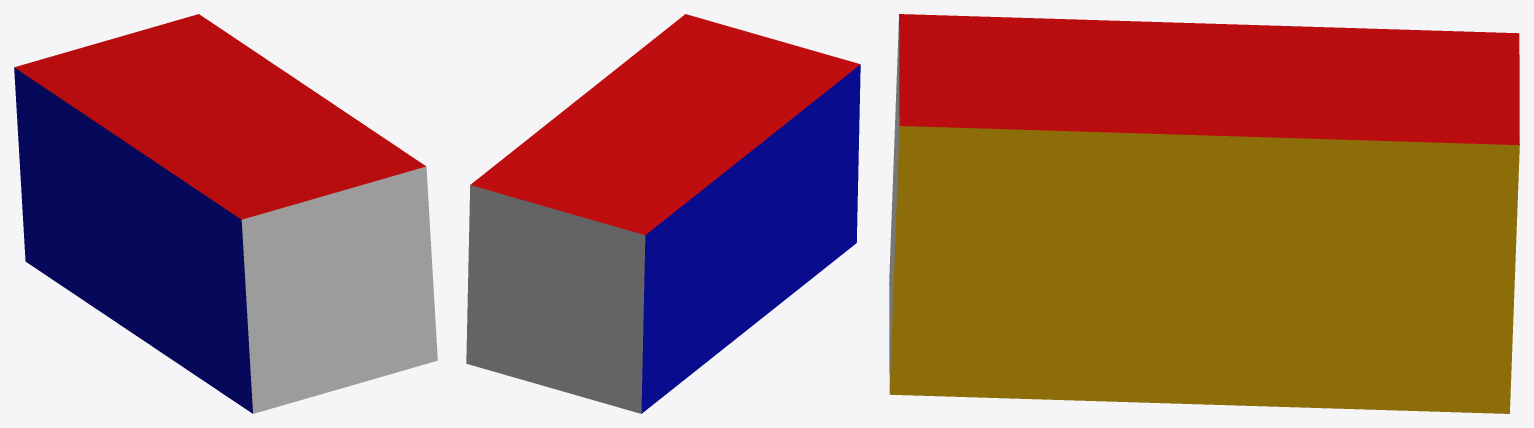
Rendered from monster.fbx.
The picture shows the model from 3 angles, left to right: view 1: azimuth 30°, elevation 25°; view 2: azimuth 150°, elevation 25°; view 3: azimuth 270°, elevation 25°; orthographic projection. The views are drawn at different scales.
Visible parts, largest first — view 1: Cube; view 2: Cube; view 3: Cube.
Part boxes in pixels (<box>): Cube: <box>14,14,437,413</box>; Cube: <box>466,14,860,413</box>; Cube: <box>889,14,1519,413</box>.
Size of the model in its own units: 83.28 by 89.06 by 173.
